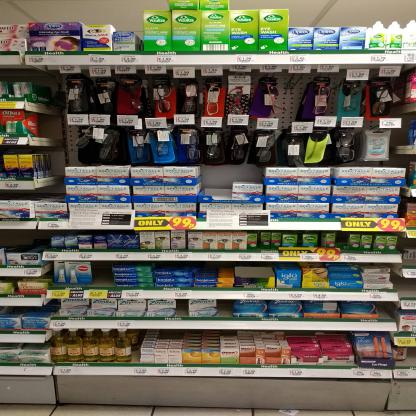Void: (2, 232, 48, 255), (205, 166, 233, 198), (91, 261, 115, 287), (375, 302, 396, 324)
